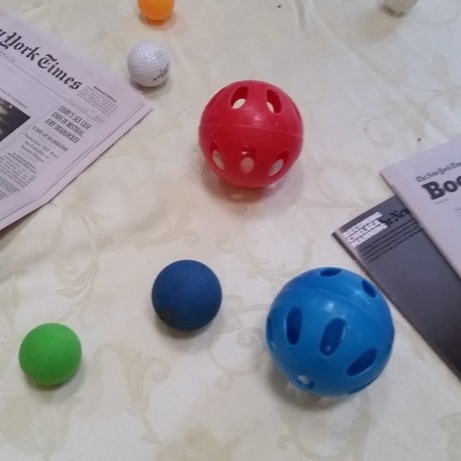ball: (261, 261, 402, 401), (195, 75, 309, 193)
